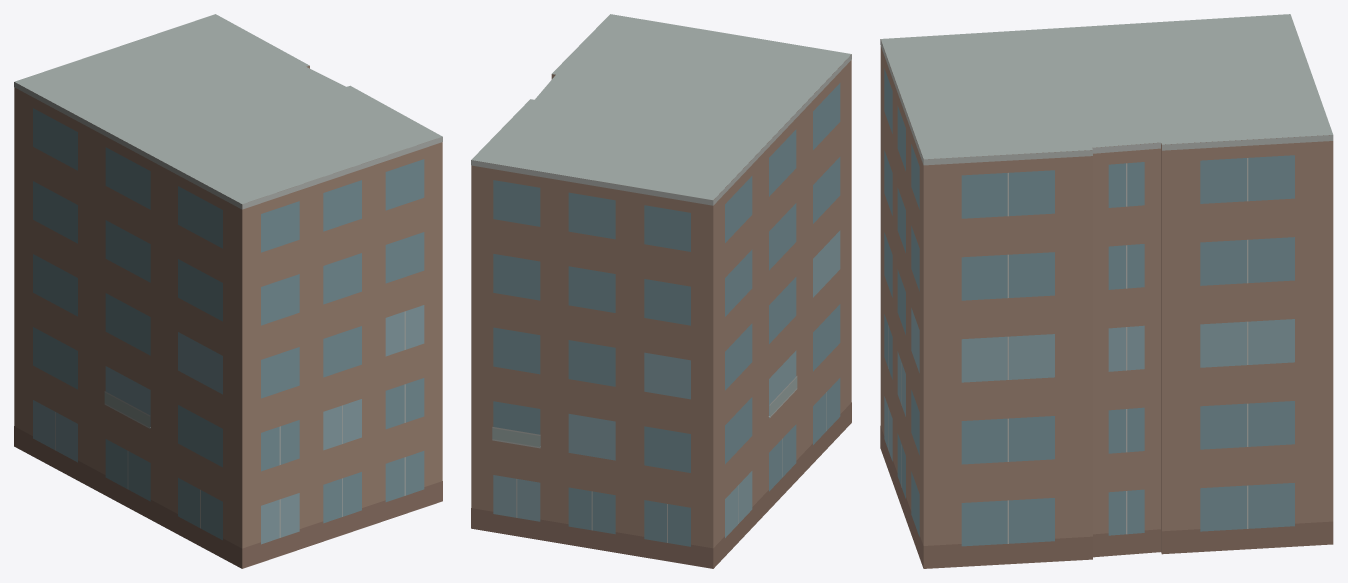
The model's file is survey-upis-33010717.glb.
The picture shows the model from 3 angles, left to right: view 1: azimuth 30°, elevation 25°; view 2: azimuth 150°, elevation 25°; view 3: azimuth 270°, elevation 25°; orthographic projection. The views are drawn at different scales.
Parts seen in each view (by area): view 1: survey-upis-33010717.tmp; view 2: survey-upis-33010717.tmp; view 3: survey-upis-33010717.tmp.
Part boxes in pixels (x1,y1,x2,y2): survey-upis-33010717.tmp: (14, 14, 442, 568); survey-upis-33010717.tmp: (471, 14, 851, 568); survey-upis-33010717.tmp: (880, 14, 1333, 568).
Size of the model in its own units: 12.57 by 16.5 by 16.54.
